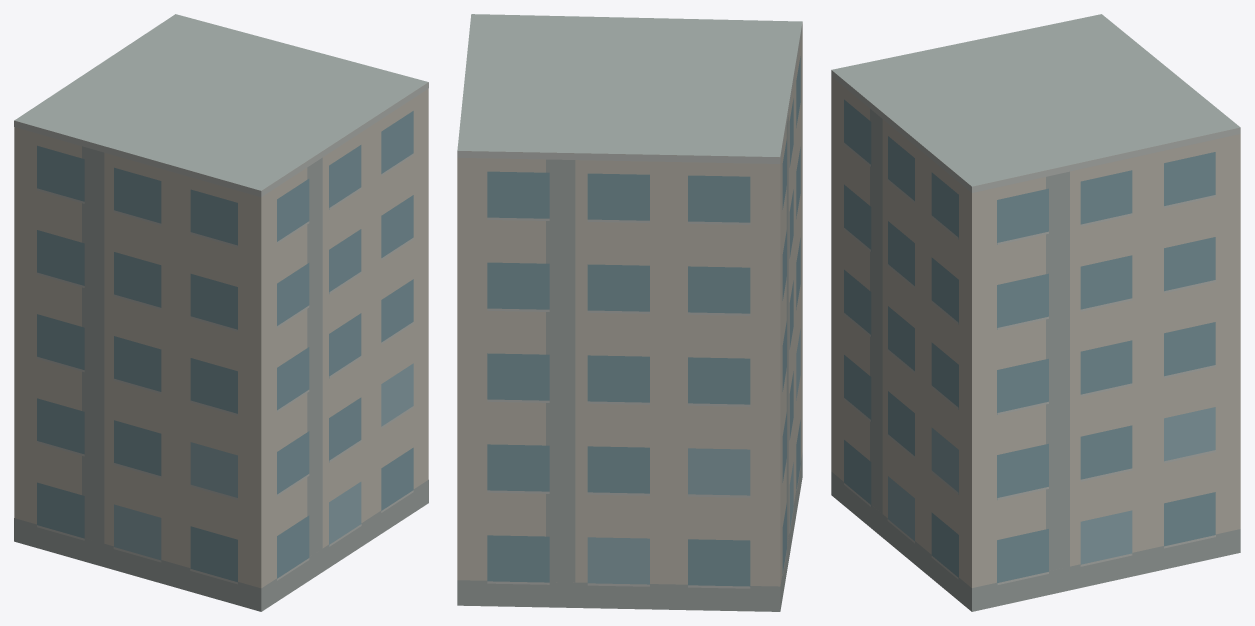
The model's file is survey-upis-32833025.glb.
3 views of the same model, side by side, from view 1: azimuth 30°, elevation 25°; view 2: azimuth 150°, elevation 25°; view 3: azimuth 270°, elevation 25° (orthographic). The views are drawn at different scales.
Parts seen in each view (by area): view 1: survey-upis-32833025.tmp; view 2: survey-upis-32833025.tmp; view 3: survey-upis-32833025.tmp.
Part boxes in pixels (x1,y1,x2,y2): survey-upis-32833025.tmp: (14,14,428,611); survey-upis-32833025.tmp: (457,14,802,611); survey-upis-32833025.tmp: (831,14,1240,611).
Bounding box in the file's own units: 13.94 × 16 × 13.97.
